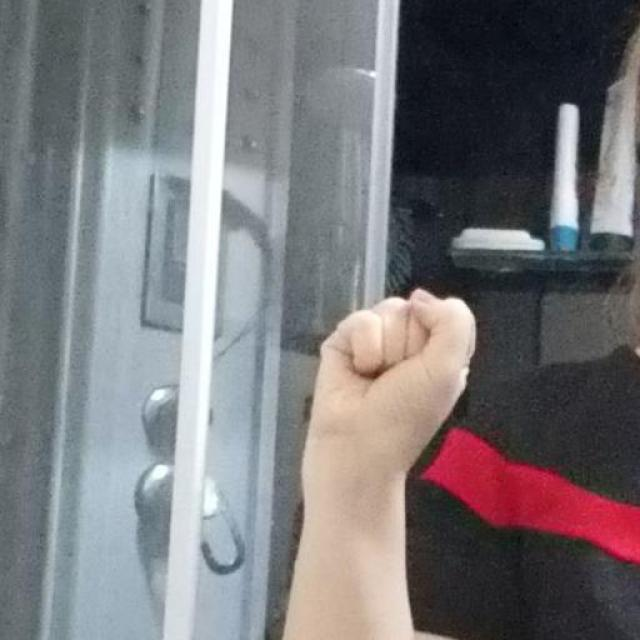hand: (296, 285, 478, 529)
